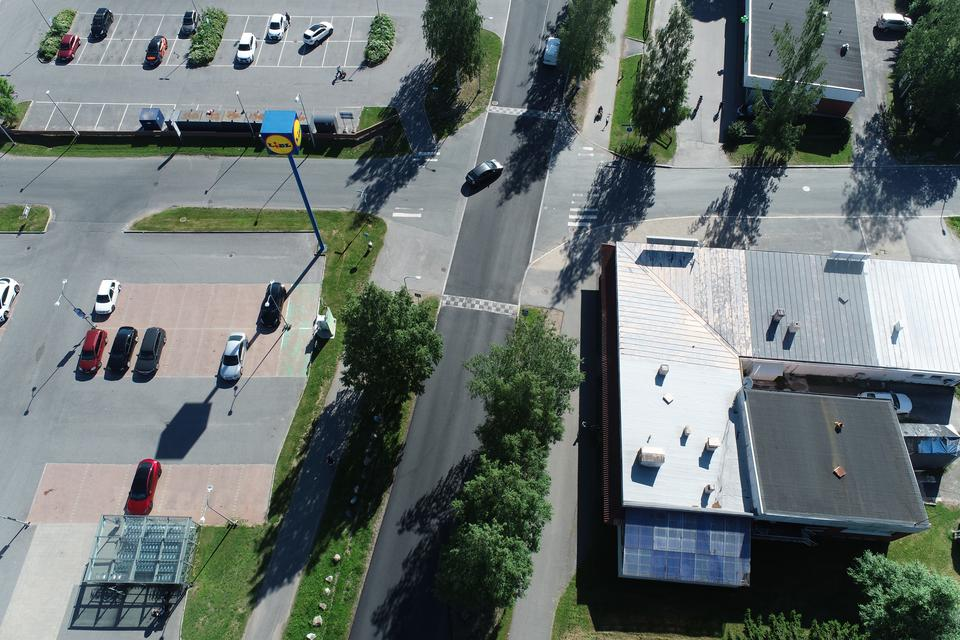intersection: (518, 107, 713, 254), (315, 127, 487, 252)
